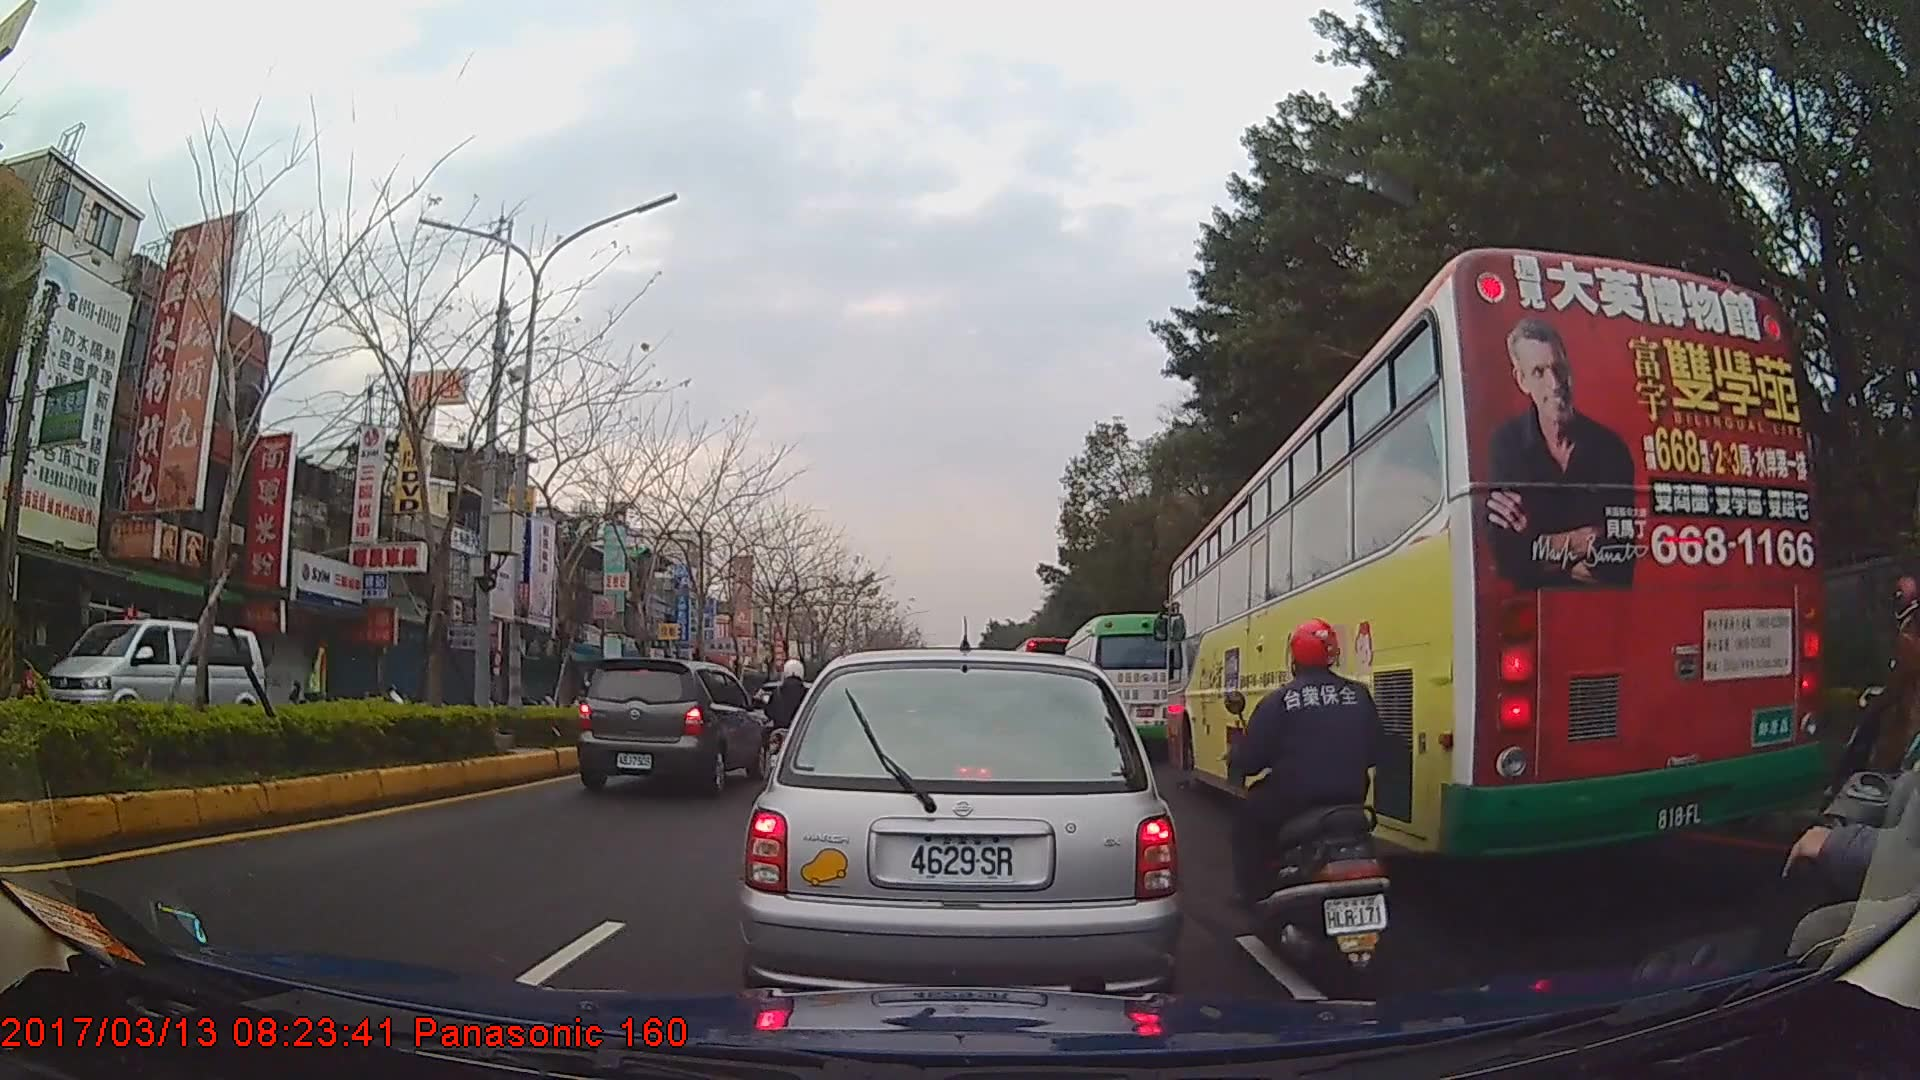rider: (1774, 449, 1920, 1080), (1221, 615, 1401, 982), (1819, 577, 1920, 877), (763, 661, 822, 782)
vehicle: (1165, 244, 1831, 866), (741, 648, 1180, 1011), (43, 619, 264, 748), (575, 659, 767, 794), (1059, 612, 1181, 756)
